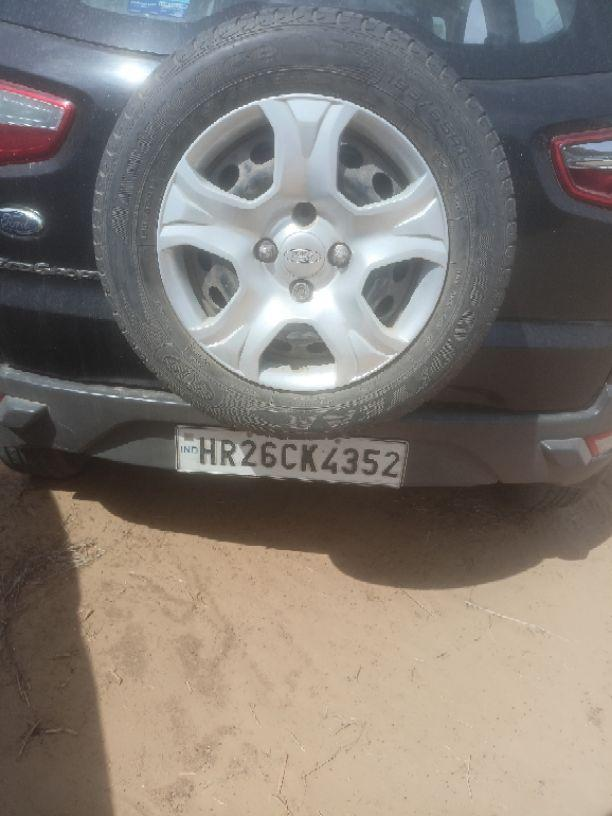license_plate: (172, 423, 409, 489)
